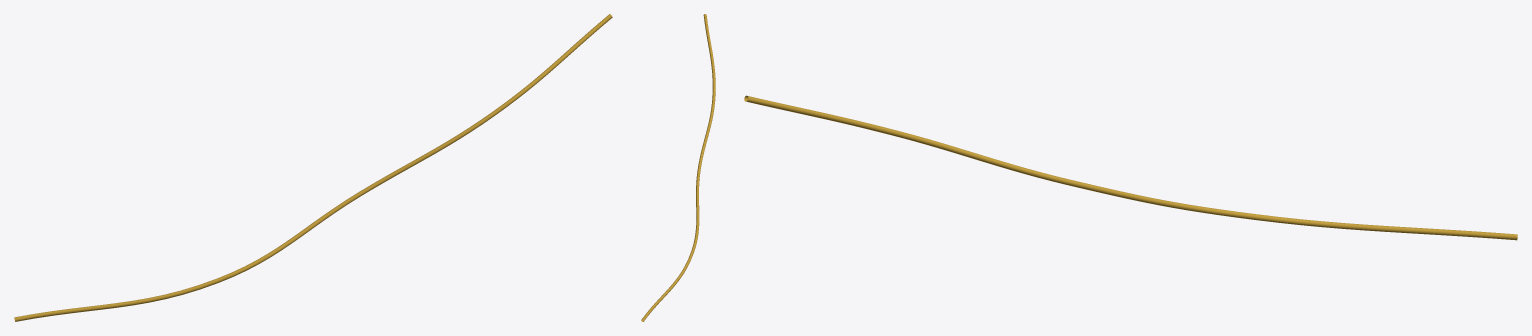
3 views of the same model, side by side, from view 1: azimuth 90°, elevation 25°; view 2: azimuth 150°, elevation 25°; view 3: azimuth 270°, elevation 25° (orthographic). The views are drawn at different scales.
Parts seen in each view (by area): view 1: 右侧尺神经掌支; view 2: 右侧尺神经掌支; view 3: 右侧尺神经掌支.
Part boxes in pixels (left/top/right/bottom): 右侧尺神经掌支: left=14, top=14, right=612, bottom=321; 右侧尺神经掌支: left=641, top=14, right=715, bottom=321; 右侧尺神经掌支: left=744, top=95, right=1517, bottom=240.
Size of the model in its own units: 0.0739 by 0.0722 by 0.1867.
